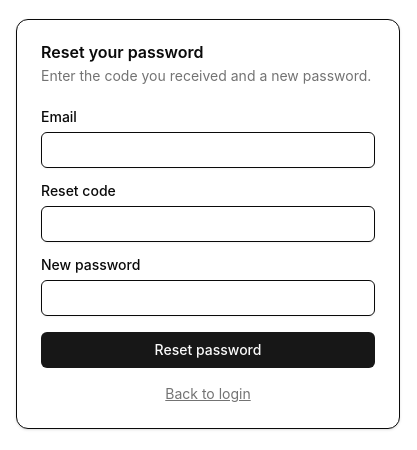
ResetPasswordPage › Successful reset navigates to login, not notes
Type "a@b.com" into the field labelled "Email" at (208, 150), box [41,132,375,168]
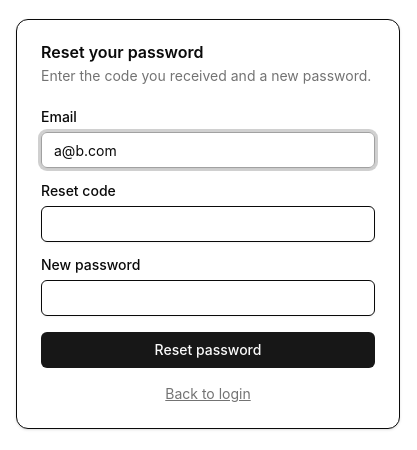
Type "123456" into the field labelled "Reset code" at (208, 224), box [41,206,375,242]
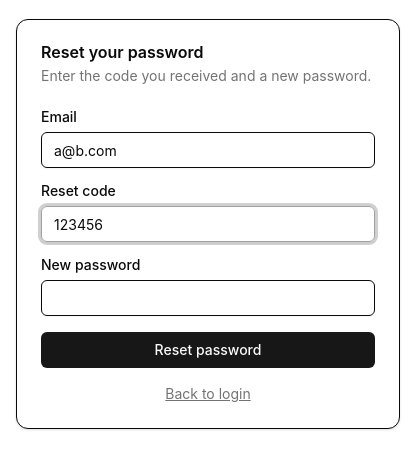
Type "Password1" into the password field labelled "New password" at (208, 298), box [41,280,375,316]
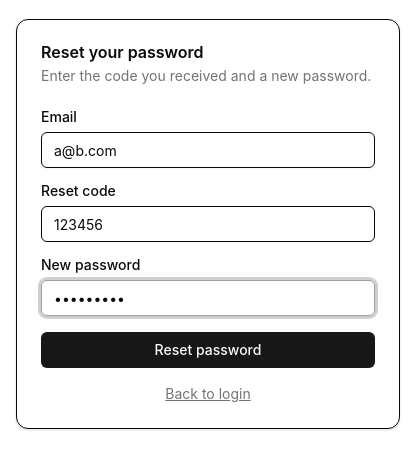
Click the button "Reset password" at (208, 350), box [41,332,375,368]
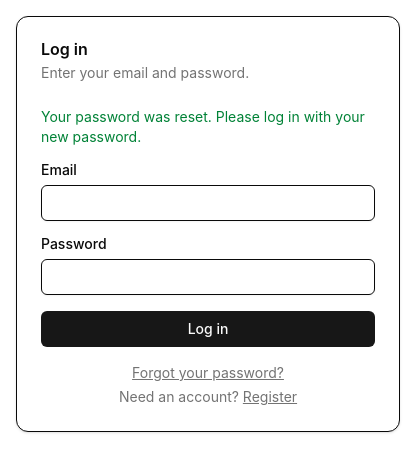
Expected: the text "Enter your email and password." is shown, [41,64,249,81]
